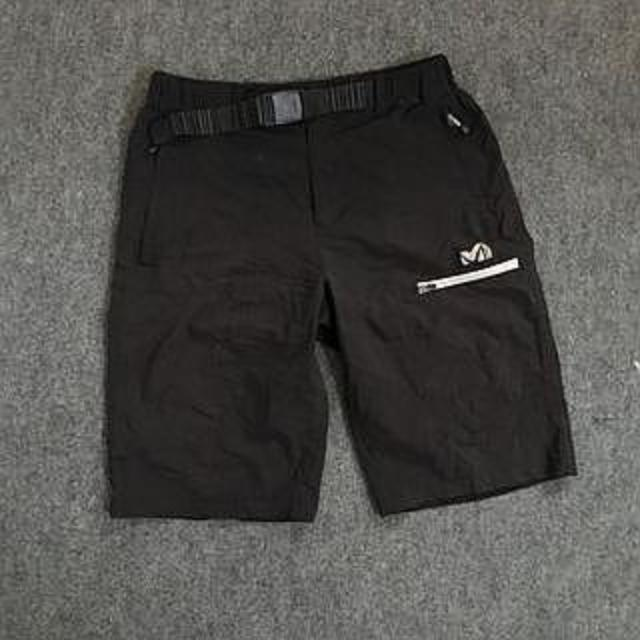SHORT: (90, 48, 594, 534)
